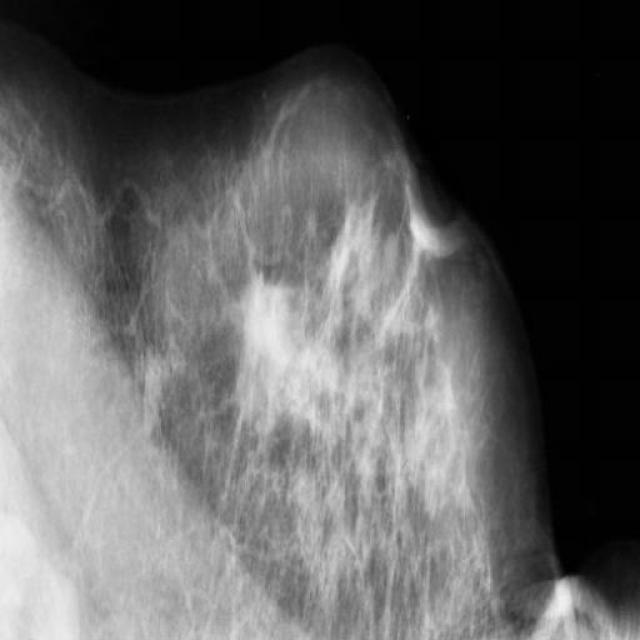cancer: (244, 241, 282, 329)
